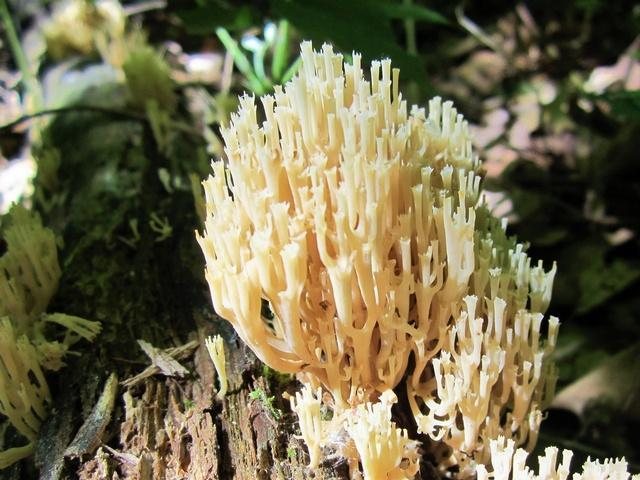Edible Mushroom: (193, 38, 562, 478), (0, 200, 101, 470)
